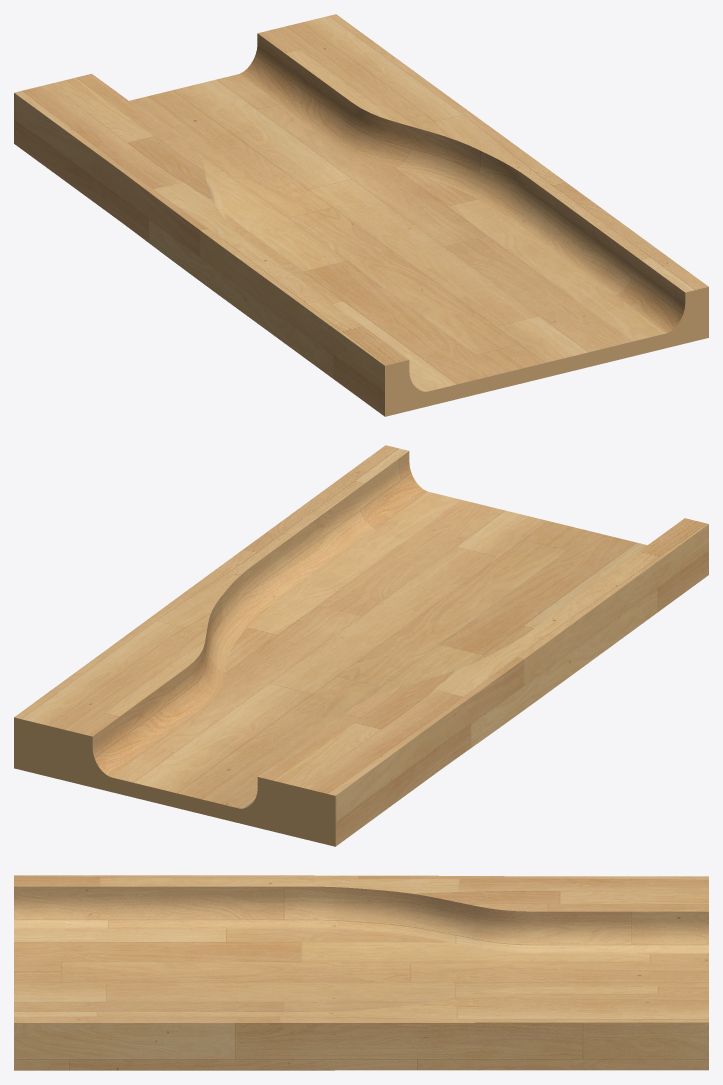
Rendered from Road5.fbx.
3 renders of one model, top to bottom at view 1: azimuth 30°, elevation 25°; view 2: azimuth 150°, elevation 25°; view 3: azimuth 270°, elevation 25°, orthographic. The views are drawn at different scales.
Parts seen in each view (by area): view 1: wideRoad; view 2: wideRoad; view 3: wideRoad.
Part boxes in pixels (x1=…): wideRoad: x1=14, y1=14, x2=708, y2=416; wideRoad: x1=14, y1=445, x2=708, y2=846; wideRoad: x1=14, y1=875, x2=708, y2=1070.
Size of the model in its own units: 936 by 141 by 1866.
